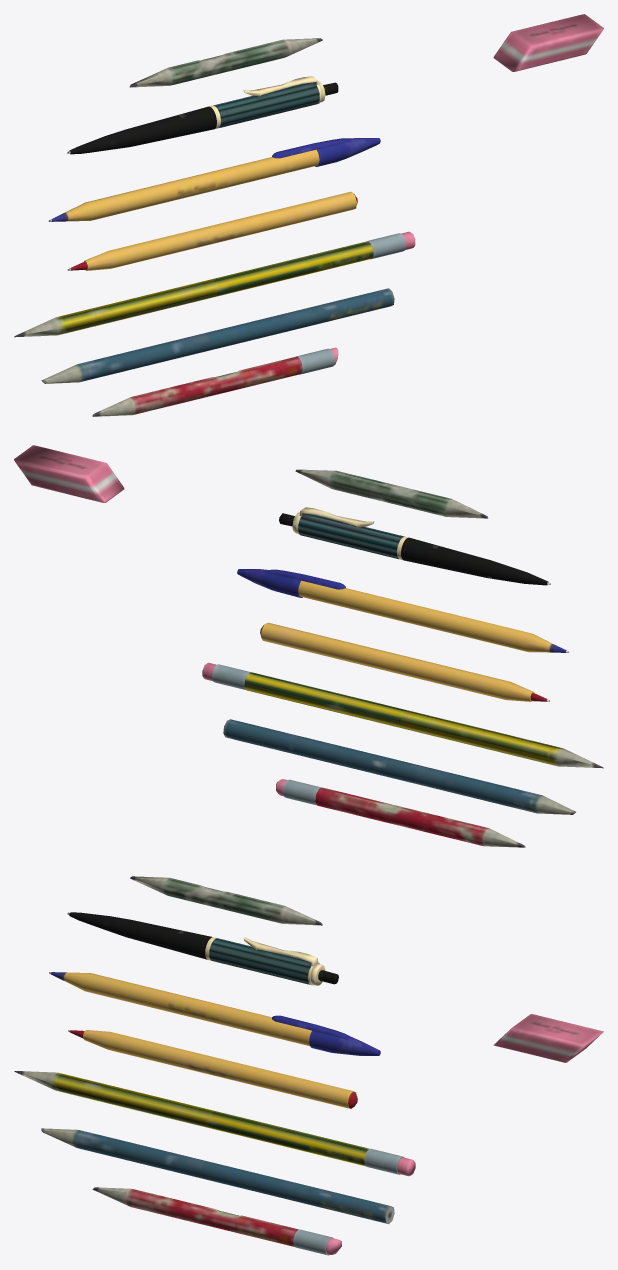
Rendered from pens.lite.glb.
3 renders of one model, top to bottom at view 1: azimuth 30°, elevation 25°; view 2: azimuth 150°, elevation 25°; view 3: azimuth 330°, elevation 25°, orthographic.
Parts seen in each view (by area): view 1: stationery_supplies_pen_red; view 2: stationery_supplies_pen_red; view 3: stationery_supplies_pen_red.
Part boxes in pixels (bbox=[...]): stationery_supplies_pen_red: bbox=[14, 14, 603, 416]; stationery_supplies_pen_red: bbox=[14, 445, 603, 847]; stationery_supplies_pen_red: bbox=[14, 876, 603, 1255].
Size of the model in its own units: 0.2826 by 0.1569 by 0.0186.
1 material, 1 textured.
